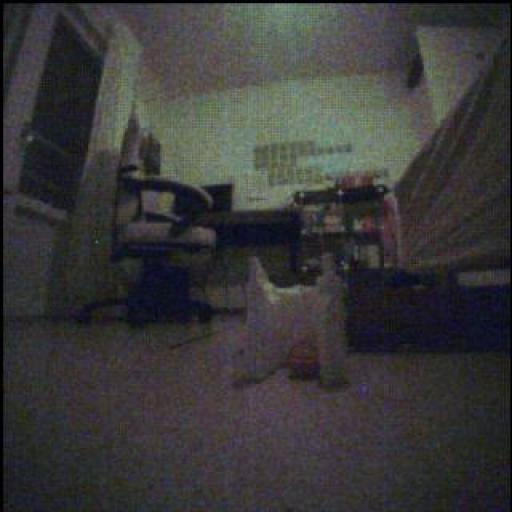basket: (290, 342, 320, 381)
